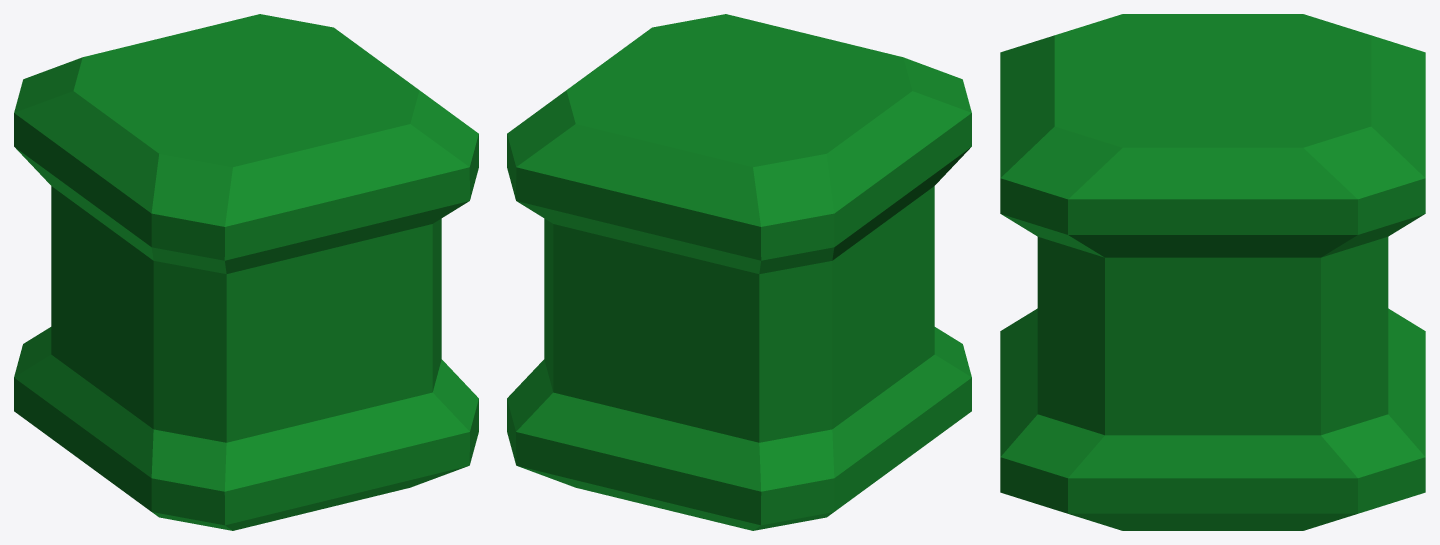
Rendered from PropCrate01.fbx.
The picture shows the model from 3 angles, left to right: view 1: azimuth 30°, elevation 25°; view 2: azimuth 150°, elevation 25°; view 3: azimuth 270°, elevation 25°; orthographic projection. The views are drawn at different scales.
Visible parts, largest first — view 1: Cube.005; view 2: Cube.005; view 3: Cube.005.
Boxes of the visible parts, bbox=[...] form: Cube.005: bbox=[14, 14, 478, 530]; Cube.005: bbox=[507, 14, 971, 530]; Cube.005: bbox=[1000, 14, 1425, 530].
Bounding box in the file's own units: 251 × 267 × 268.
